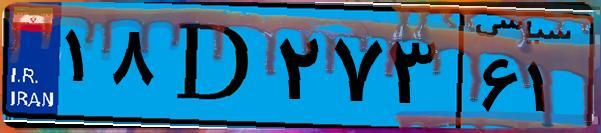1: (57, 26, 110, 100), (525, 38, 570, 115)
2: (270, 28, 330, 110)
3: (385, 28, 445, 110)
6: (475, 38, 525, 113)
7: (330, 28, 385, 110)
8: (110, 28, 158, 98)
D: (158, 12, 270, 120)
